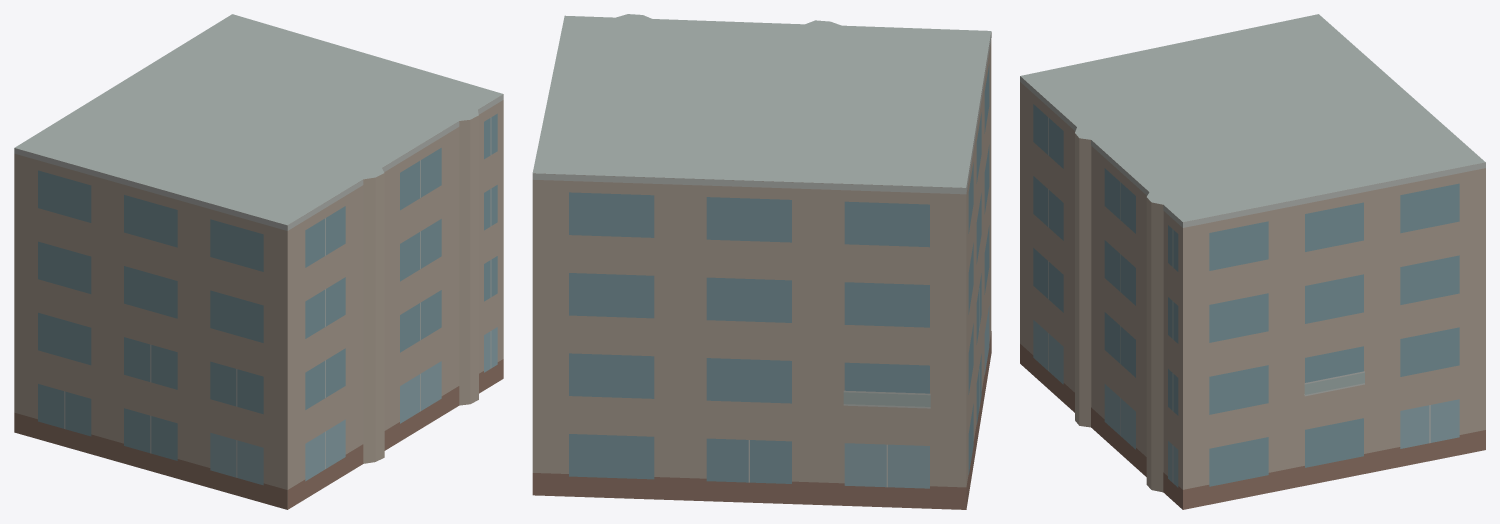
Rendered from survey-upis-32932999.glb.
3 views of the same model, side by side, from view 1: azimuth 30°, elevation 25°; view 2: azimuth 150°, elevation 25°; view 3: azimuth 270°, elevation 25° (orthographic). The views are drawn at different scales.
Visible parts, largest first — view 1: survey-upis-32932999.tmp; view 2: survey-upis-32932999.tmp; view 3: survey-upis-32932999.tmp.
Part boxes in pixels (box(x1,y1,x2,y2)): survey-upis-32932999.tmp: box(14, 14, 503, 509); survey-upis-32932999.tmp: box(532, 14, 991, 509); survey-upis-32932999.tmp: box(1020, 14, 1485, 509).
Size of the model in its own units: 18.95 by 12.2 by 17.91.
